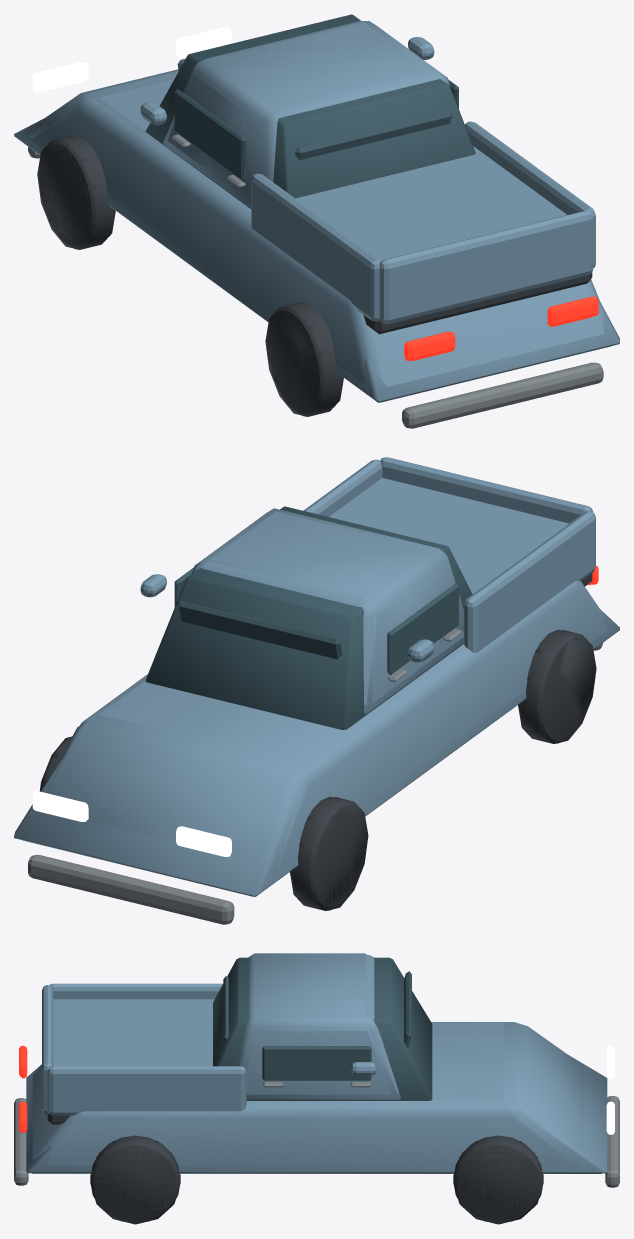
The model's file is utility_pickup.glb.
3 renders of one model, top to bottom at view 1: azimuth 30°, elevation 25°; view 2: azimuth 150°, elevation 25°; view 3: azimuth 270°, elevation 25°, orthographic. The views are drawn at different scales.
Parts seen in each view (by area): view 1: LOD0_utility_pickup_LowerBody, LOD1_utility_pickup_Cab, LOD2_utility_pickup_Upper, LOD1_utility_pickup_Bed, LOD0_utility_pickup_TailGate, LOD0_utility_pickup_Cab, LOD0_utility_pickup_BedRail_L, LOD2_utility_pickup_Body, LOD0_utility_pickup_Wheel_RL, LOD0_utility_pickup_Wheel_FL, LOD0_utility_pickup_RearBumper, LOD1_utility_pickup_Wheel_FL (+10 smaller); view 2: LOD1_utility_pickup_Body, LOD0_utility_pickup_LowerBody, LOD2_utility_pickup_Upper, LOD0_utility_pickup_Cab, LOD1_utility_pickup_Bed, LOD2_utility_pickup_Body, LOD1_utility_pickup_Cab, LOD0_utility_pickup_BedRail_L, LOD0_utility_pickup_Wheel_FL, LOD0_utility_pickup_FrontBumper, LOD0_utility_pickup_TailGate, LOD0_utility_pickup_Wheel_RL (+7 smaller); view 3: LOD0_utility_pickup_LowerBody, LOD1_utility_pickup_Body, LOD1_utility_pickup_Cab, LOD1_utility_pickup_Bed, LOD0_utility_pickup_BedRail_R, LOD2_utility_pickup_Upper, LOD2_utility_pickup_Body, LOD0_utility_pickup_Cab, LOD0_utility_pickup_Wheel_FR, LOD0_utility_pickup_Wheel_RR, LOD1_utility_pickup_Wheel_FR, LOD1_utility_pickup_Wheel_RR (+7 smaller).
Part boxes in pixels (<box>): LOD0_utility_pickup_LowerBody: <box>32,79,604,399</box>; LOD1_utility_pickup_Cab: <box>163,21,449,207</box>; LOD2_utility_pickup_Upper: <box>145,14,475,208</box>; LOD1_utility_pickup_Bed: <box>295,146,566,324</box>; LOD0_utility_pickup_TailGate: <box>379,211,593,323</box>; LOD0_utility_pickup_Cab: <box>167,21,428,187</box>; LOD0_utility_pickup_BedRail_L: <box>251,173,380,321</box>; LOD2_utility_pickup_Body: <box>14,109,619,402</box>; LOD0_utility_pickup_Wheel_RL: <box>267,302,341,416</box>; LOD0_utility_pickup_Wheel_FL: <box>39,135,113,249</box>; LOD0_utility_pickup_RearBumper: <box>402,362,603,428</box>; LOD1_utility_pickup_Wheel_FL: <box>37,136,115,249</box>; LOD1_utility_pickup_Body: <box>23,618,609,896</box>; LOD0_utility_pickup_LowerBody: <box>80,580,608,873</box>; LOD2_utility_pickup_Upper: <box>145,506,472,729</box>; LOD0_utility_pickup_Cab: <box>191,511,464,704</box>; LOD1_utility_pickup_Bed: <box>329,478,569,593</box>; LOD2_utility_pickup_Body: <box>14,608,619,896</box>; LOD1_utility_pickup_Cab: <box>192,508,464,714</box>; LOD0_utility_pickup_BedRail_L: <box>464,511,595,652</box>; LOD0_utility_pickup_Wheel_FL: <box>292,796,366,910</box>; LOD0_utility_pickup_FrontBumper: <box>28,854,234,924</box>; LOD0_utility_pickup_TailGate: <box>380,457,593,523</box>; LOD0_utility_pickup_Wheel_RL: <box>520,629,584,743</box>; LOD0_utility_pickup_LowerBody: <box>32,1023,575,1166</box>; LOD1_utility_pickup_Body: <box>32,1022,601,1173</box>; LOD1_utility_pickup_Cab: <box>238,953,400,1100</box>; LOD1_utility_pickup_Bed: <box>53,999,214,1066</box>; LOD0_utility_pickup_BedRail_R: <box>47,1066,246,1115</box>; LOD2_utility_pickup_Upper: <box>213,957,432,1100</box>; LOD2_utility_pickup_Body: <box>26,1055,607,1173</box>; LOD0_utility_pickup_Cab: <box>246,955,398,1094</box>; LOD0_utility_pickup_Wheel_FR: <box>453,1135,543,1221</box>; LOD0_utility_pickup_Wheel_RR: <box>90,1135,180,1221</box>; LOD1_utility_pickup_Wheel_FR: <box>453,1140,543,1224</box>; LOD1_utility_pickup_Wheel_RR: <box>90,1140,180,1224</box>.
Size of what is drawn, in the model's own units: 2.31 by 1.82 by 5.38.
